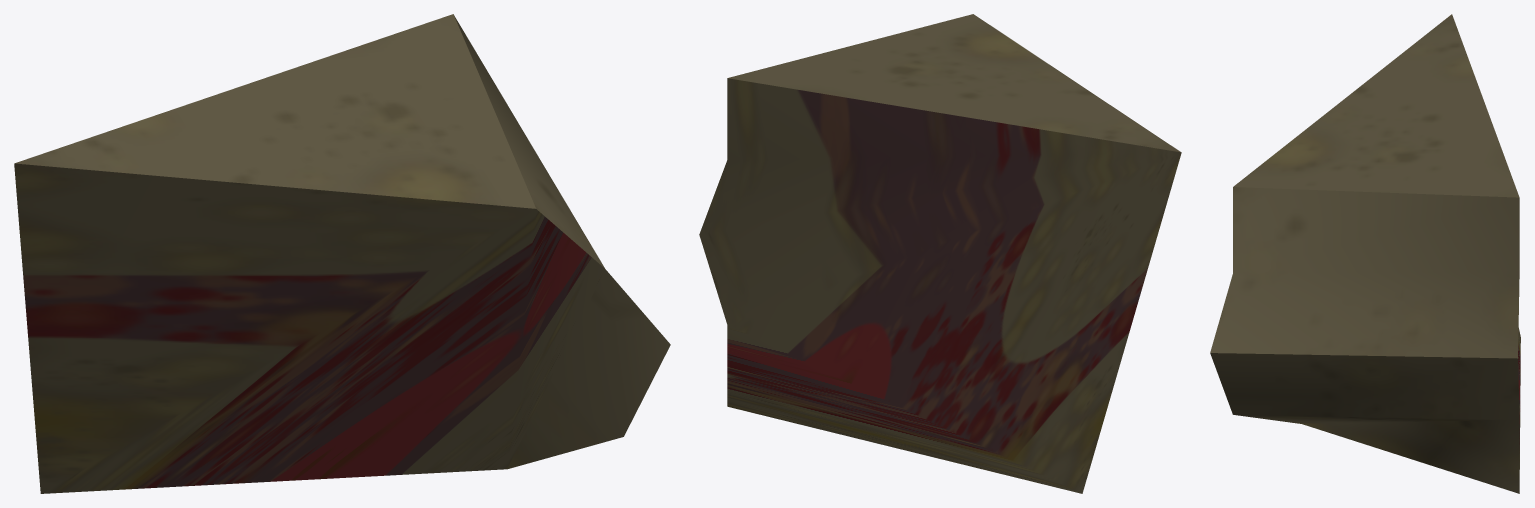
The model's file is ishi_02_10_4.fbx.
3 views of the same model, side by side, from view 1: azimuth 30°, elevation 25°; view 2: azimuth 150°, elevation 25°; view 3: azimuth 270°, elevation 25° (orthographic). The views are drawn at different scales.
Visible parts, largest first — view 1: polySurface30; view 2: polySurface30; view 3: polySurface30.
Part boxes in pixels (box(x1,y1,x2,y2)): polySurface30: box(14, 14, 670, 493); polySurface30: box(699, 14, 1181, 493); polySurface30: box(1210, 14, 1520, 493).
Size of the model in its own units: 7.3 by 5.14 by 4.88.
Materials: 1 (1 with a texture image).
